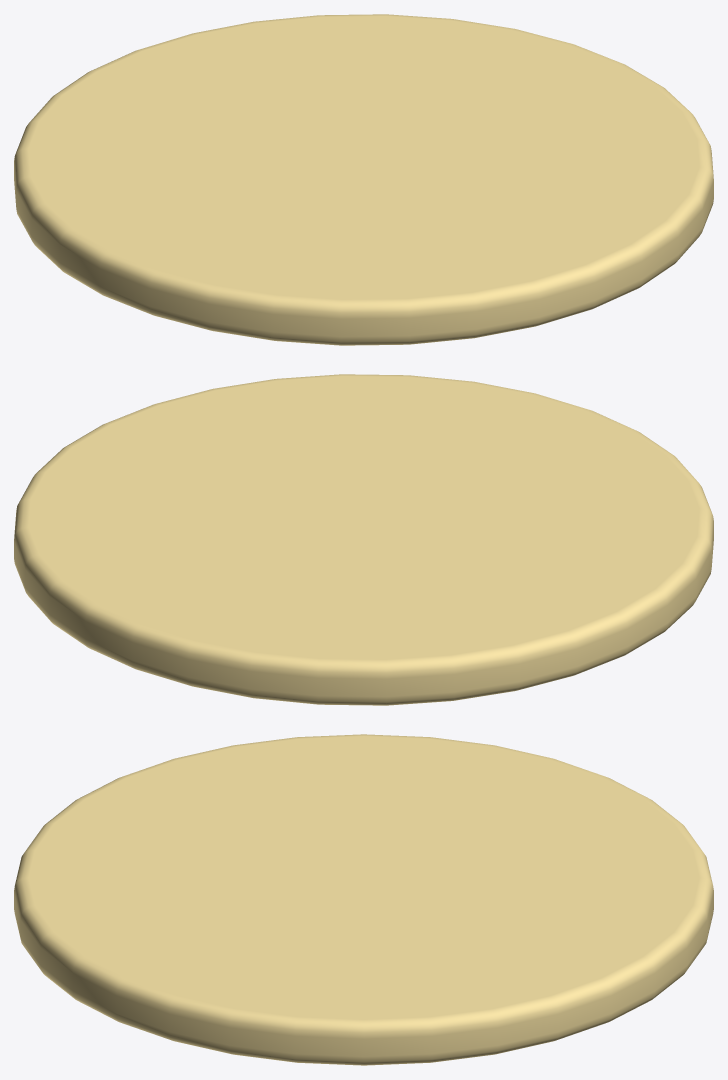
File: coin.glb
3 renders of one model, top to bottom at view 1: azimuth 30°, elevation 25°; view 2: azimuth 150°, elevation 25°; view 3: azimuth 270°, elevation 25°, orthographic.
Visible parts, largest first — view 1: coin; view 2: coin; view 3: coin.
Part boxes in pixels (x1=…): coin: x1=14, y1=14, x2=713, y2=345; coin: x1=14, y1=374, x2=713, y2=705; coin: x1=14, y1=734, x2=713, y2=1065.
Size of the model in its own units: 0.72 by 0.05 by 0.72.
